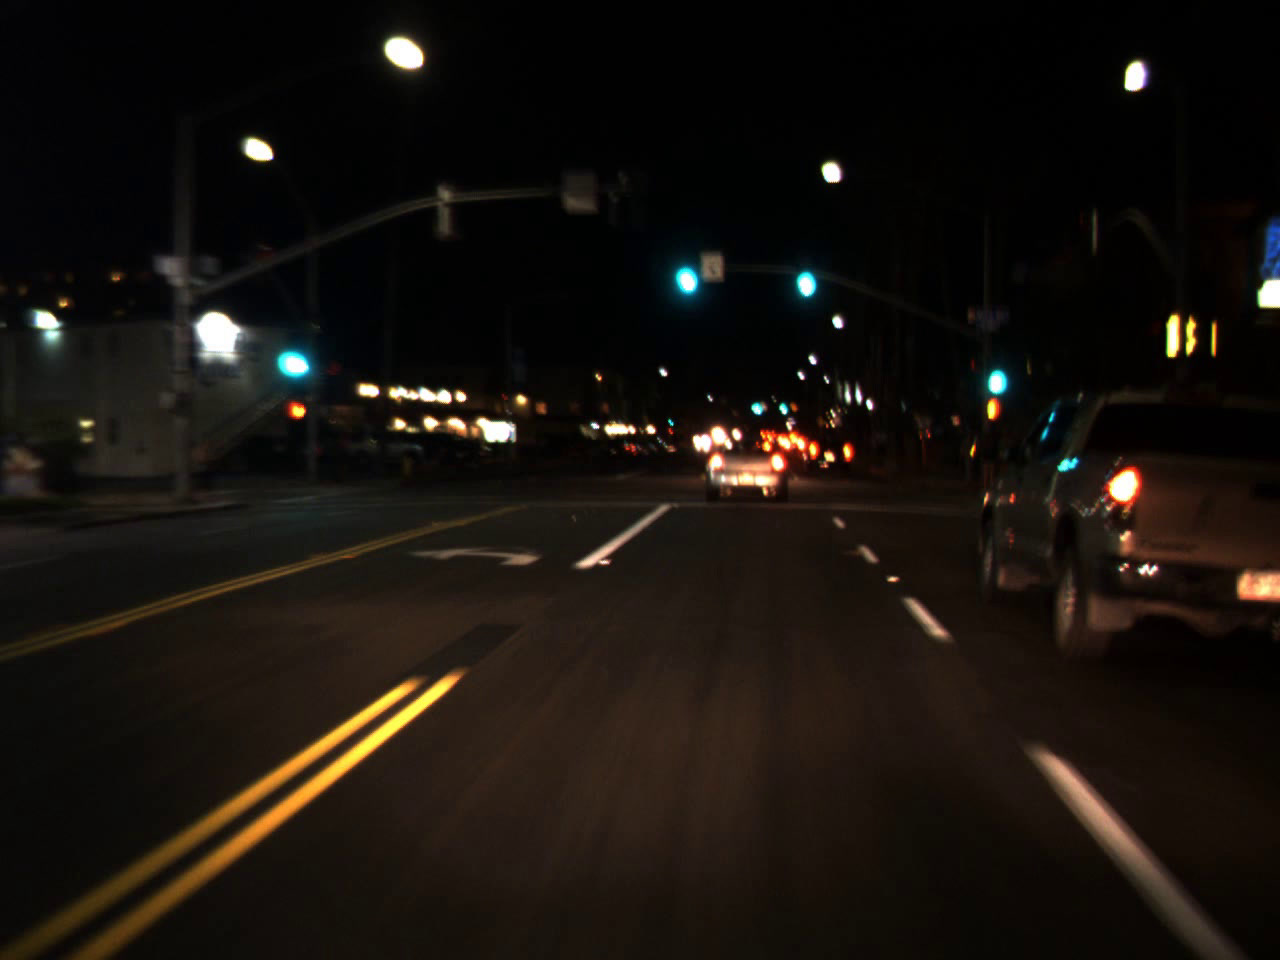go: (264, 312, 316, 390), (665, 230, 702, 305), (980, 336, 1010, 405), (789, 240, 819, 306), (747, 392, 765, 416), (778, 395, 788, 413), (665, 413, 672, 425)
